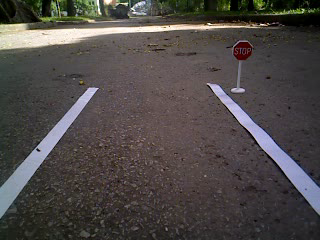Stop: (230, 36, 256, 64)
